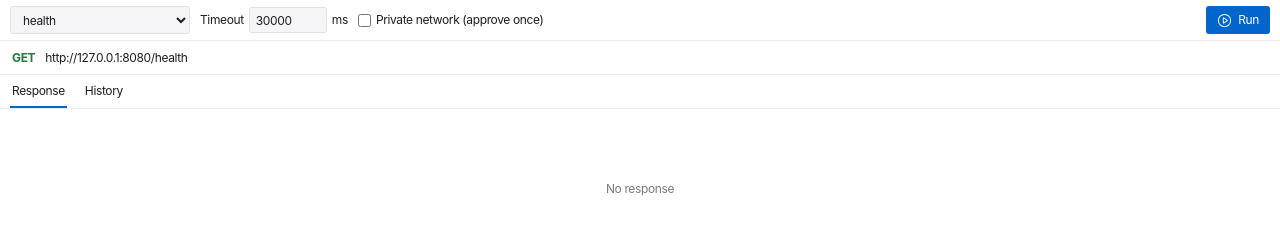
Scenario: HTTPClientPanel › shows a backend authorization rejection and does not send
This screenshot has width=1280, height=248.
Click the checkbox with test id "http-private-network": (364,20) [358,14,371,26]
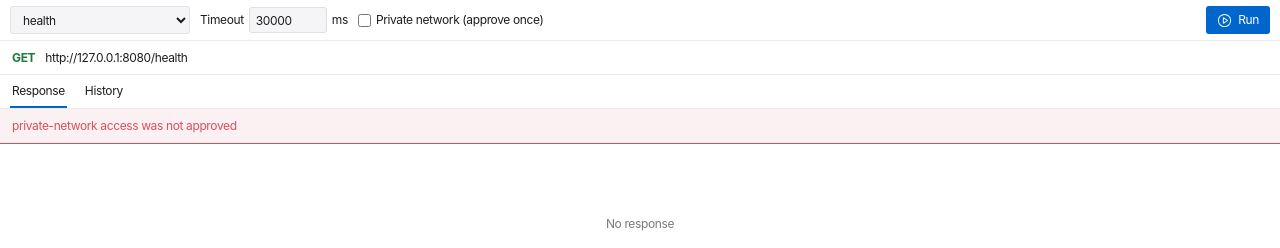
Now the message "private-network access was not approved" is shown, box [0,109,1279,144]
